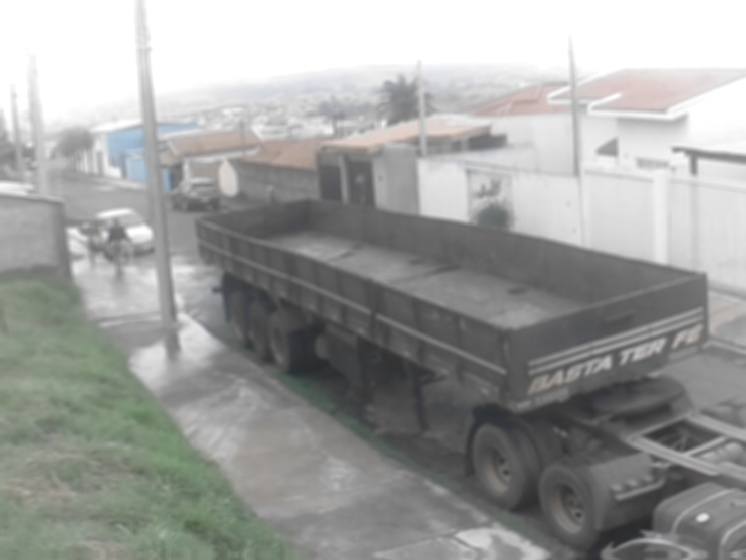person: (106, 217, 136, 276)
